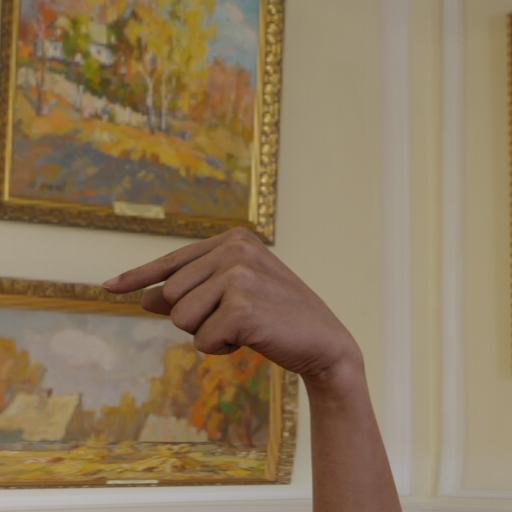G: (100, 212, 371, 388)
